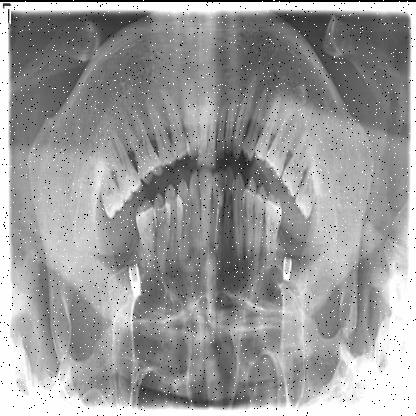Bicon: (126, 260, 144, 294), (283, 254, 292, 282)
